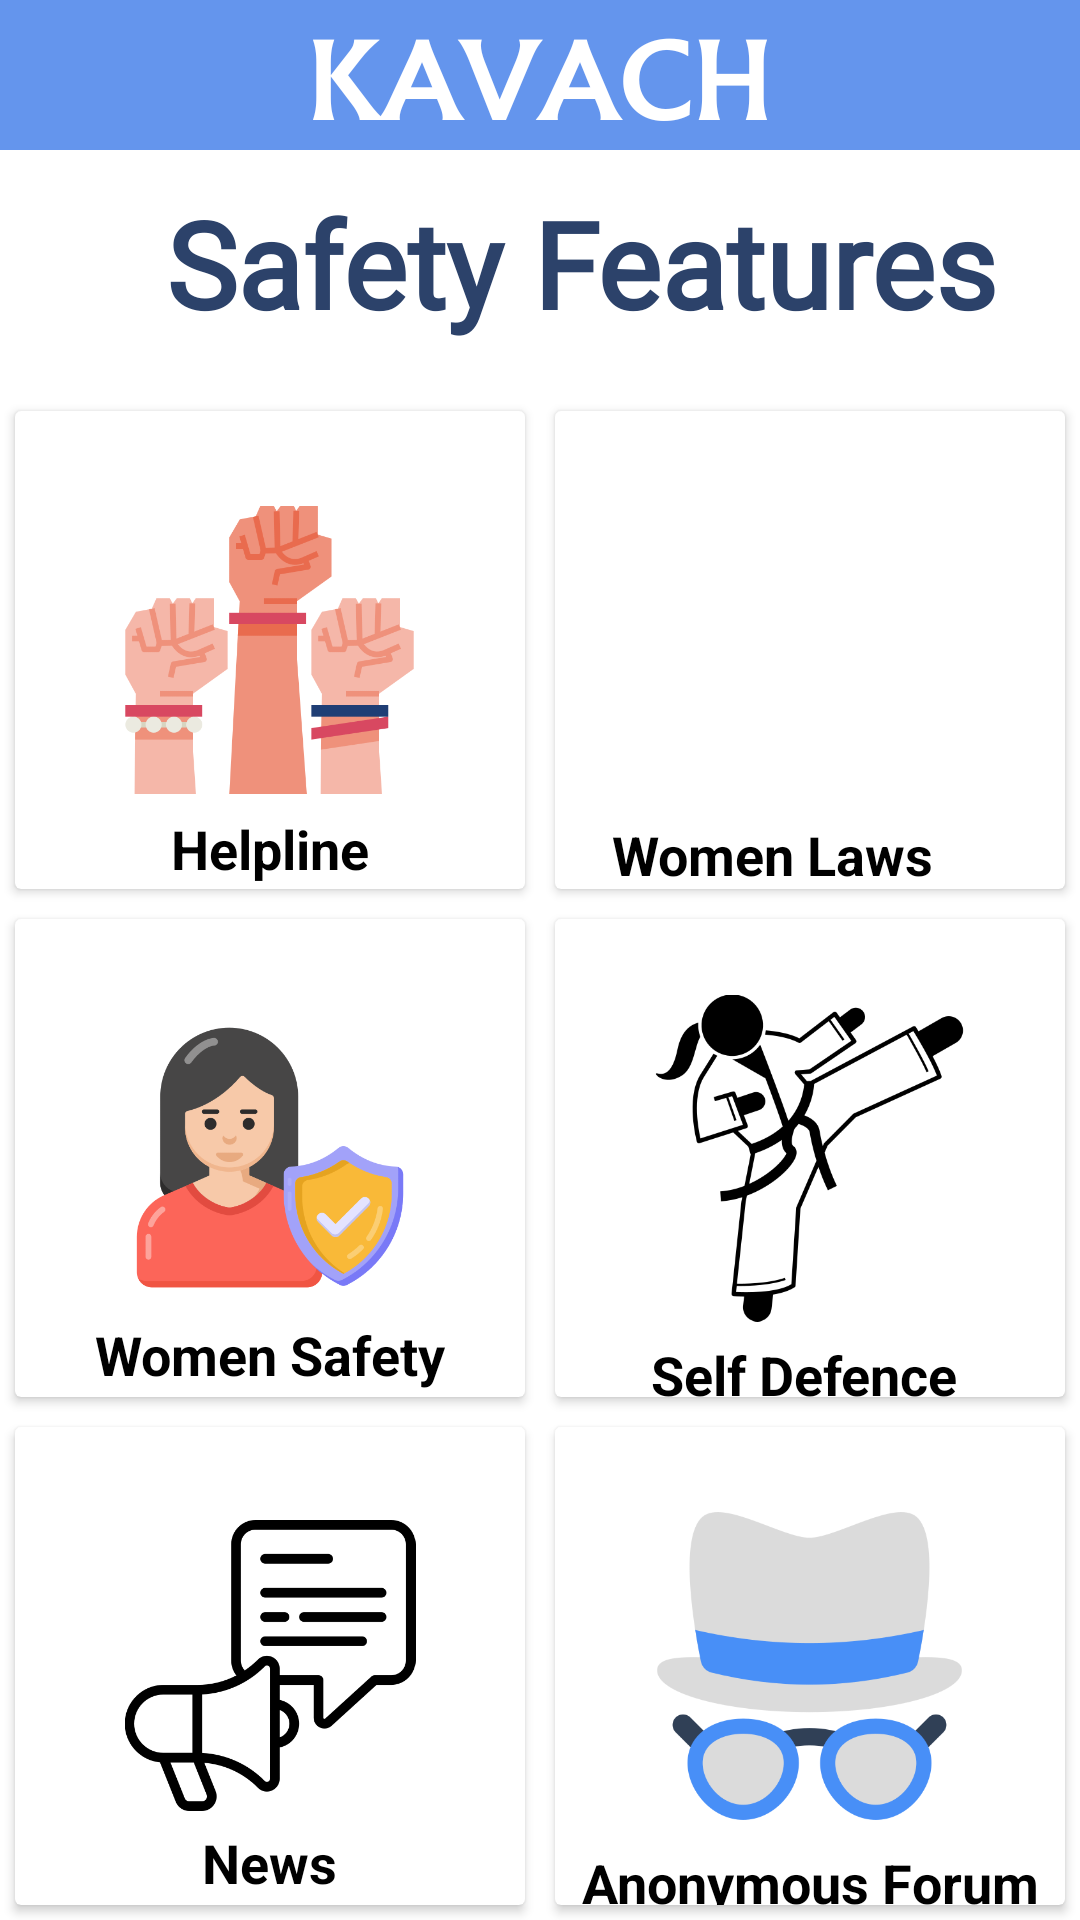

Icons on this 1080w x 1920h Android screen, each with its box as [x1, y1, x2, y2]:
karate: [656, 995, 964, 1322]
march: [125, 506, 414, 794]
